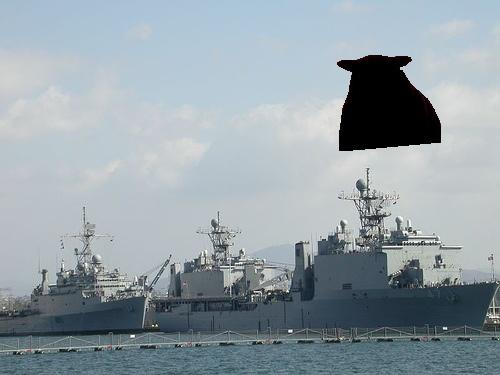tampered: (338, 56, 441, 151)
